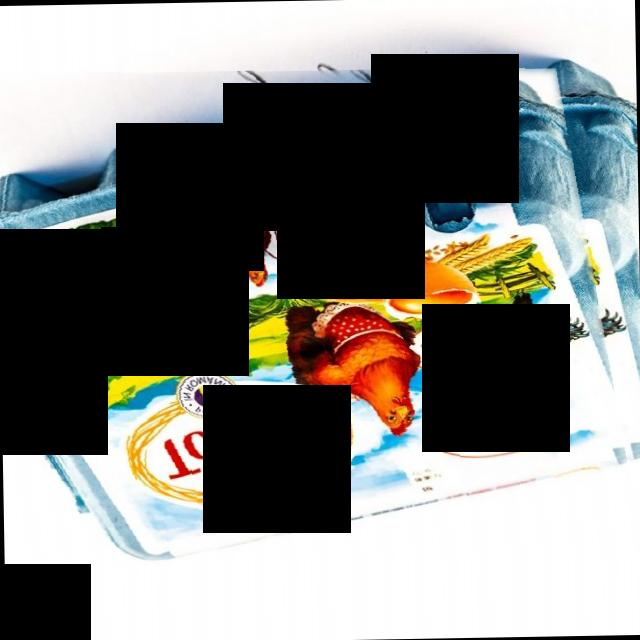eggs: (0, 61, 640, 564)
